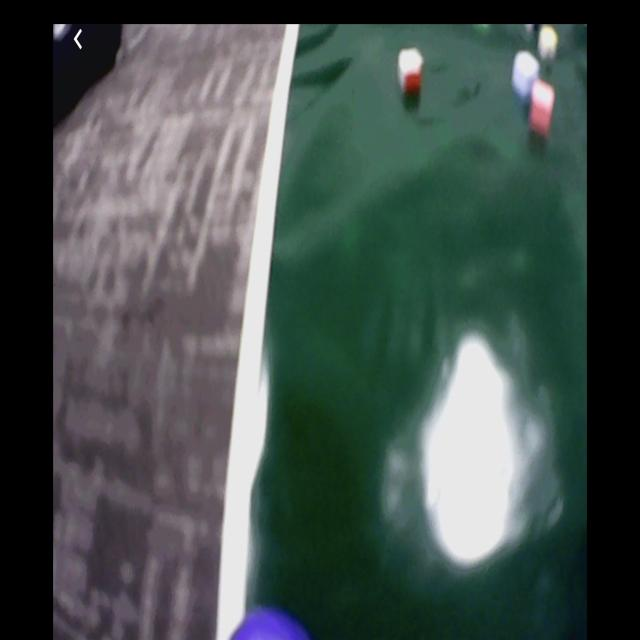ball: (226, 608, 312, 640)
